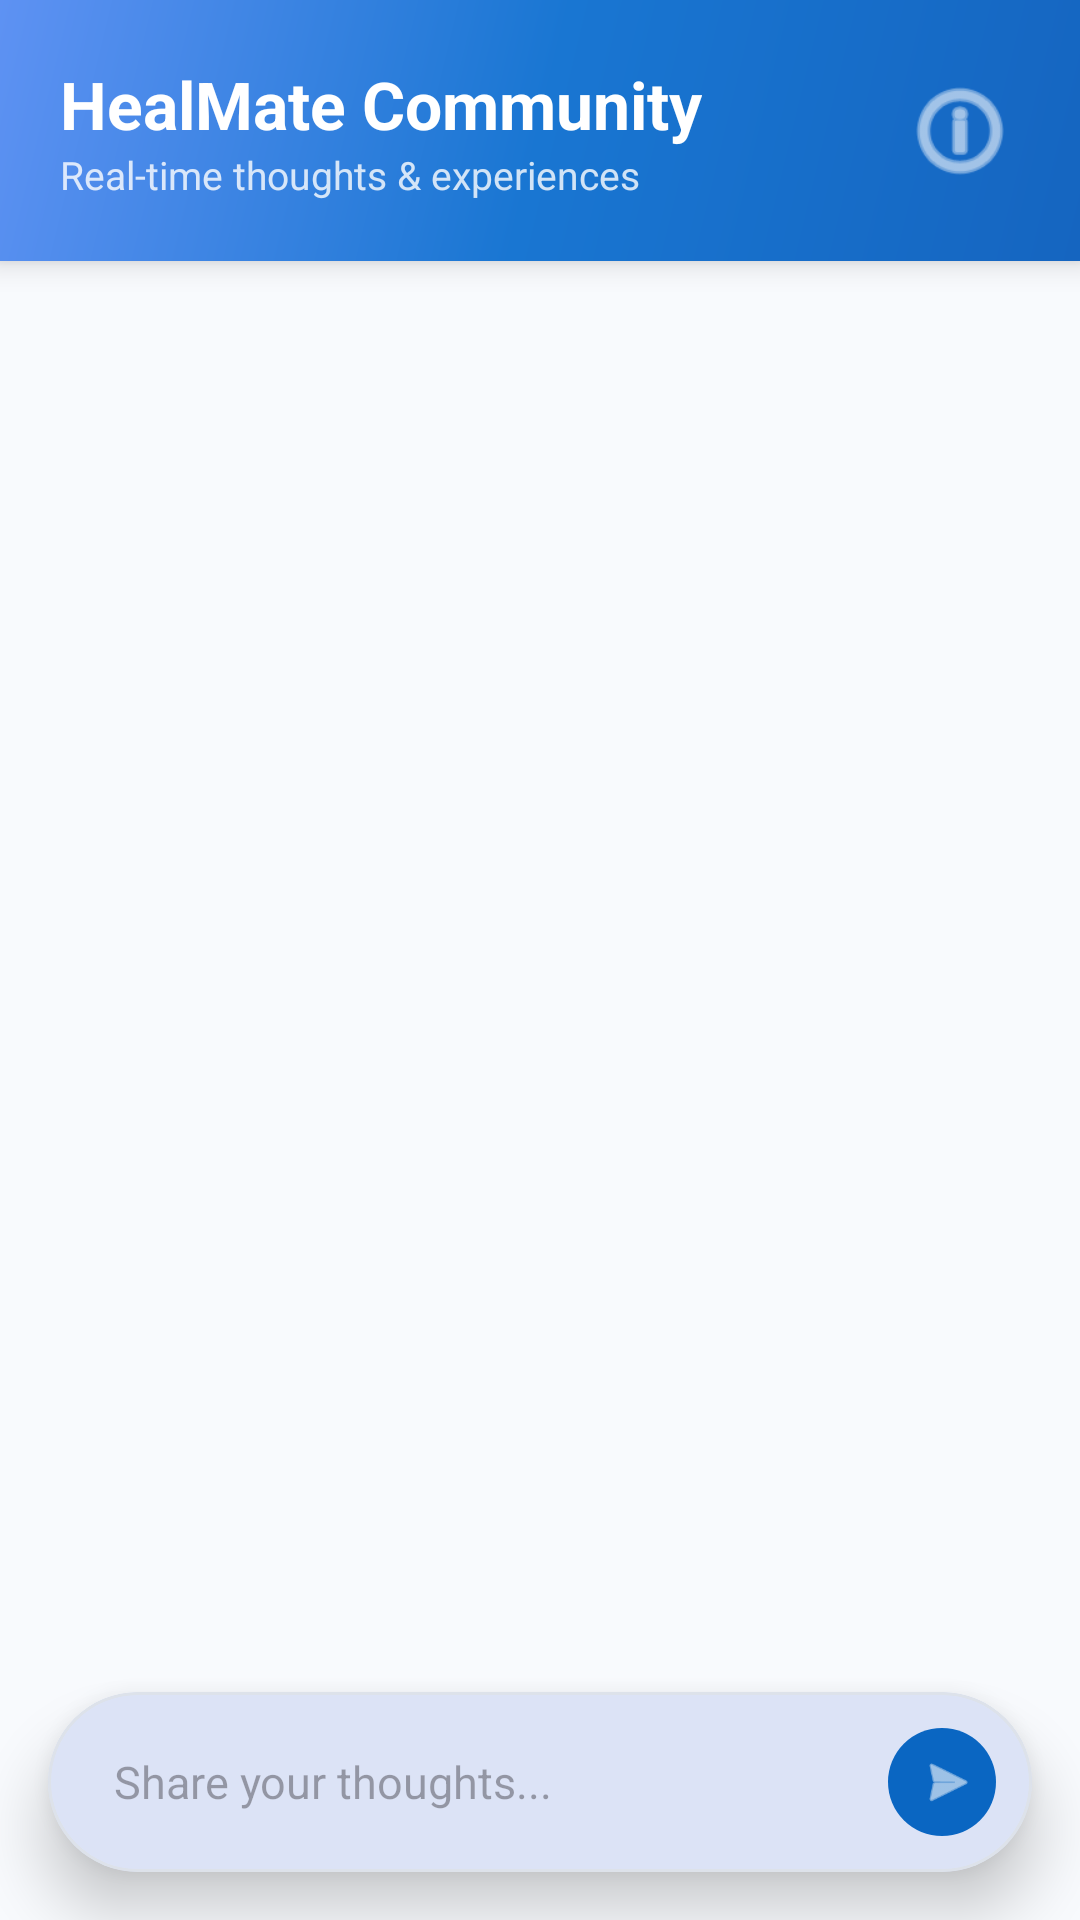

Where icons sit on this 1080w x 1920h app screen, as (x1, y1, x2, y2):
Info: (917, 88, 1003, 174)
send: (888, 1728, 996, 1836)
